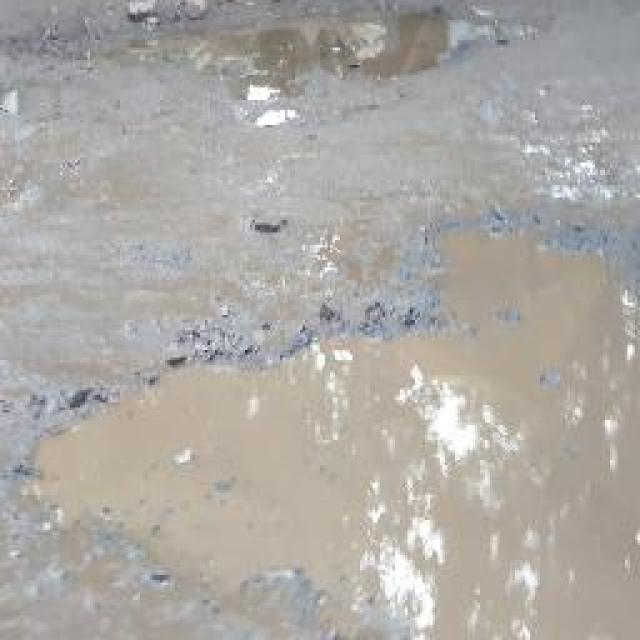waterlogging: (7, 167, 640, 640)
